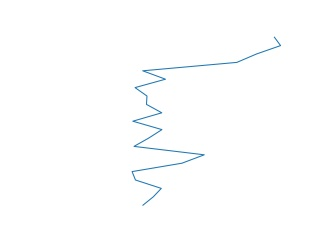crevasseRiverChannelBar: (127, 31, 287, 207)
